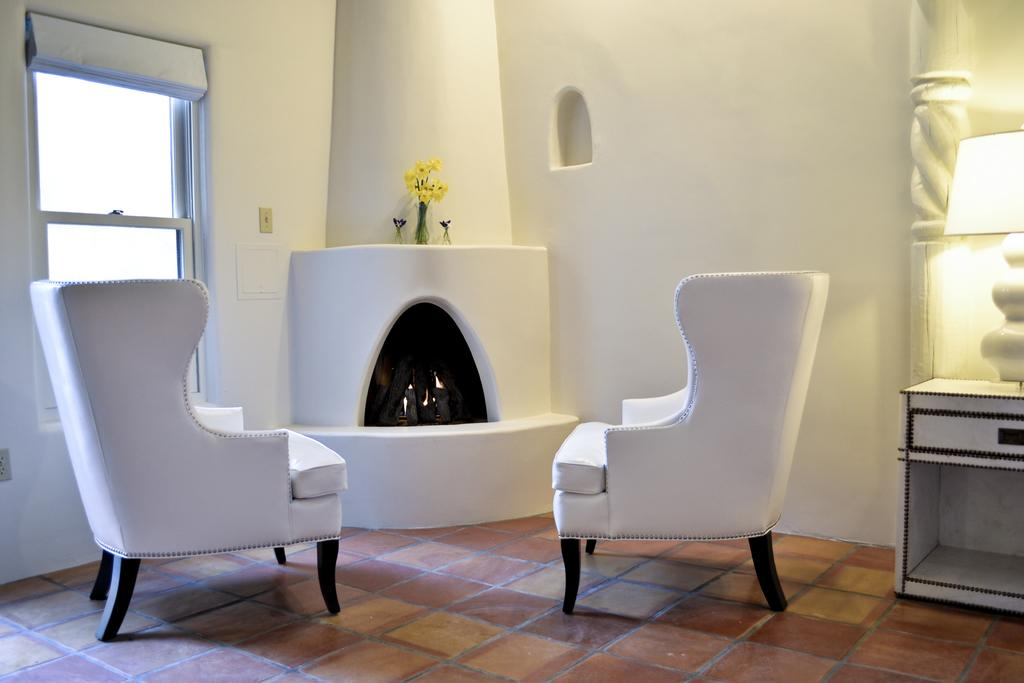Chair: (29, 279, 349, 643), (544, 273, 840, 646)
